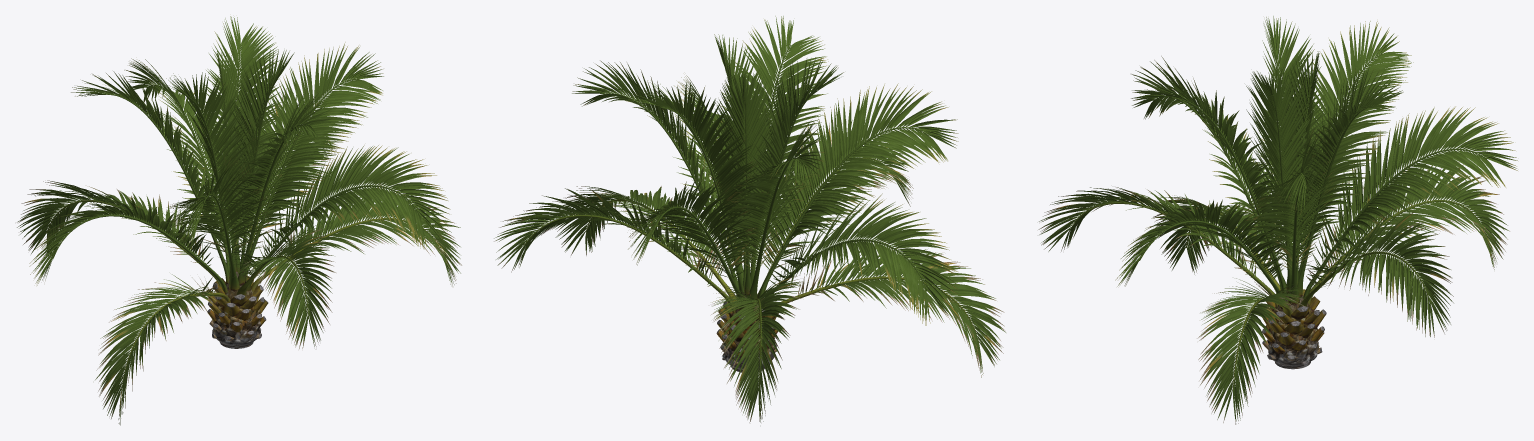
Rendered from realistic_hd_canary_island_date_palm_3140.glb.
3 views of the same model, side by side, from view 1: azimuth 30°, elevation 25°; view 2: azimuth 150°, elevation 25°; view 3: azimuth 270°, elevation 25° (orthographic). The views are drawn at different scales.
Visible parts, largest first — view 1: Phoenix_canariensis_HD; view 2: Phoenix_canariensis_HD; view 3: Phoenix_canariensis_HD.
Part boxes in pixels (x1=…): Phoenix_canariensis_HD: x1=17, y1=16, x2=461, y2=425; Phoenix_canariensis_HD: x1=494, y1=16, x2=1005, y2=422; Phoenix_canariensis_HD: x1=1038, y1=16, x2=1517, y2=424.
Size of the model in its own units: 3.12 by 2.17 by 2.98.
15 materials, 15 textured.
